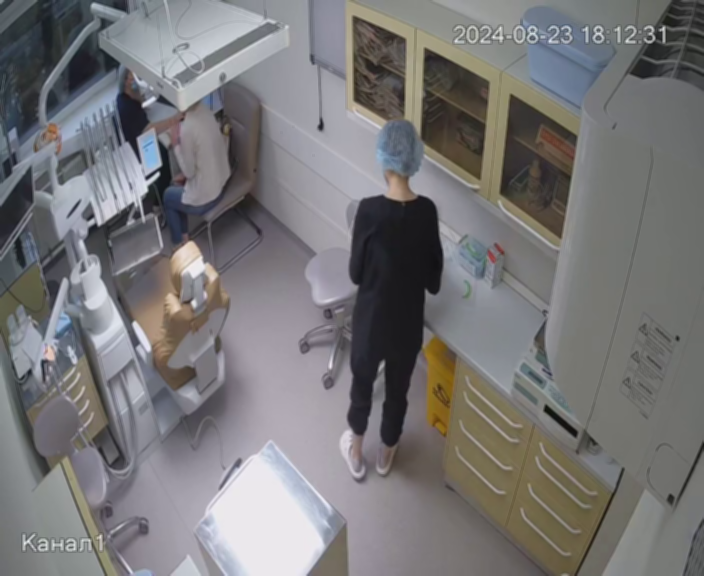Empty: (125, 241, 230, 413)
